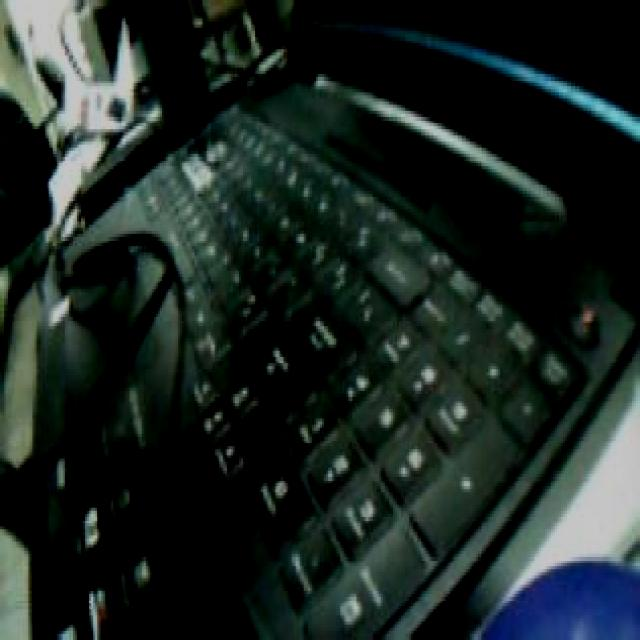BallPurple: (476, 557, 638, 640)
